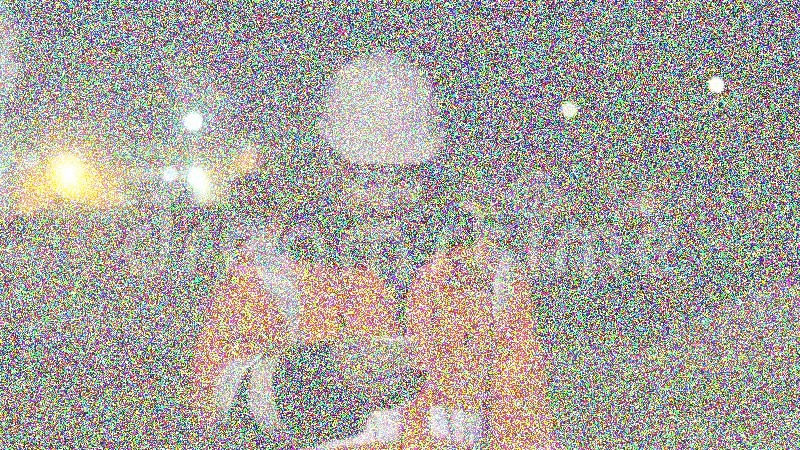helmet: (310, 45, 453, 249)
vest: (183, 233, 544, 450)
